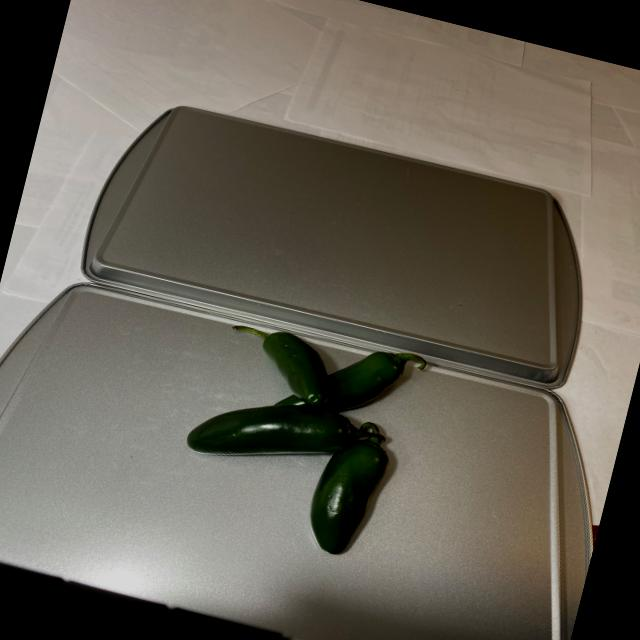chilli: (161, 299, 442, 570)
